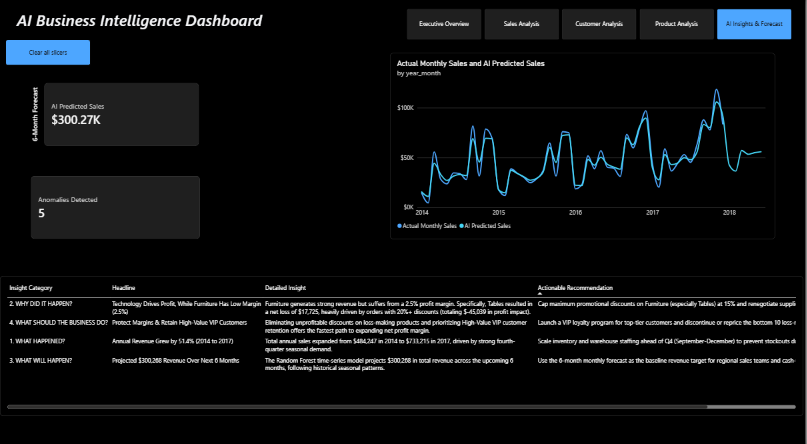

Layout of this report page (visuals, bound fields, positions):
{"tool":"powerbi","page":{"name":"AI Insights & Forecast","canvas":[1920,1080],"ordinal":4},"visuals":[{"type":"textbox","box":[0,31,665.7,74],"z":0},{"type":"cardVisual","fields":{"Data":["key Measures (2).AI Predicted Sales"],"Rows":["sales_forecast.record_type"]},"box":[71.6,207.6,403.2,150.3],"z":1000},{"type":"cardVisual","fields":{"Data":["CountNonNull(sales_forecast.is_anomaly)"]},"box":[74,429.5,403,150],"z":2000},{"type":"lineChart","fields":{"Category":["sales_forecast.year_month"],"Y":["key Measures (2).Actual Monthly Sales","key Measures (2).AI Predicted Sales"]},"box":[930.5,136,918.6,443.8],"z":3000},{"type":"tableEx","fields":{"Values":["ai_business_insights.Insight_Category","ai_business_insights.Headline","ai_business_insights.Detailed_Insight","ai_business_insights.Actionable_Recommendation"]},"box":[0,668.1,1915.9,334],"z":4000},{"type":"pageNavigator","box":[971.1,31,919,74],"z":5000},{"type":"actionButton","box":[14.3,105,200.4,59.6],"z":6000}]}

Visuals, with their boxes in screenshot pixels (x1, y1, x2, y2), scaled from the page's 1920x1080 canvas onto the 807x444 screenshot:
textbox: 0,13,280,43
cardVisual - key Measures (2).AI Predicted Sales x sales_forecast.record_type: 30,85,200,147
cardVisual - CountNonNull(sales_forecast.is_anomaly): 31,177,200,238
lineChart - sales_forecast.year_month x key Measures (2).Actual Monthly Sales: 391,56,777,238
tableEx - ai_business_insights.Insight_Category x ai_business_insights.Headline: 0,275,805,412
pageNavigator: 408,13,794,43
actionButton: 6,43,90,68
